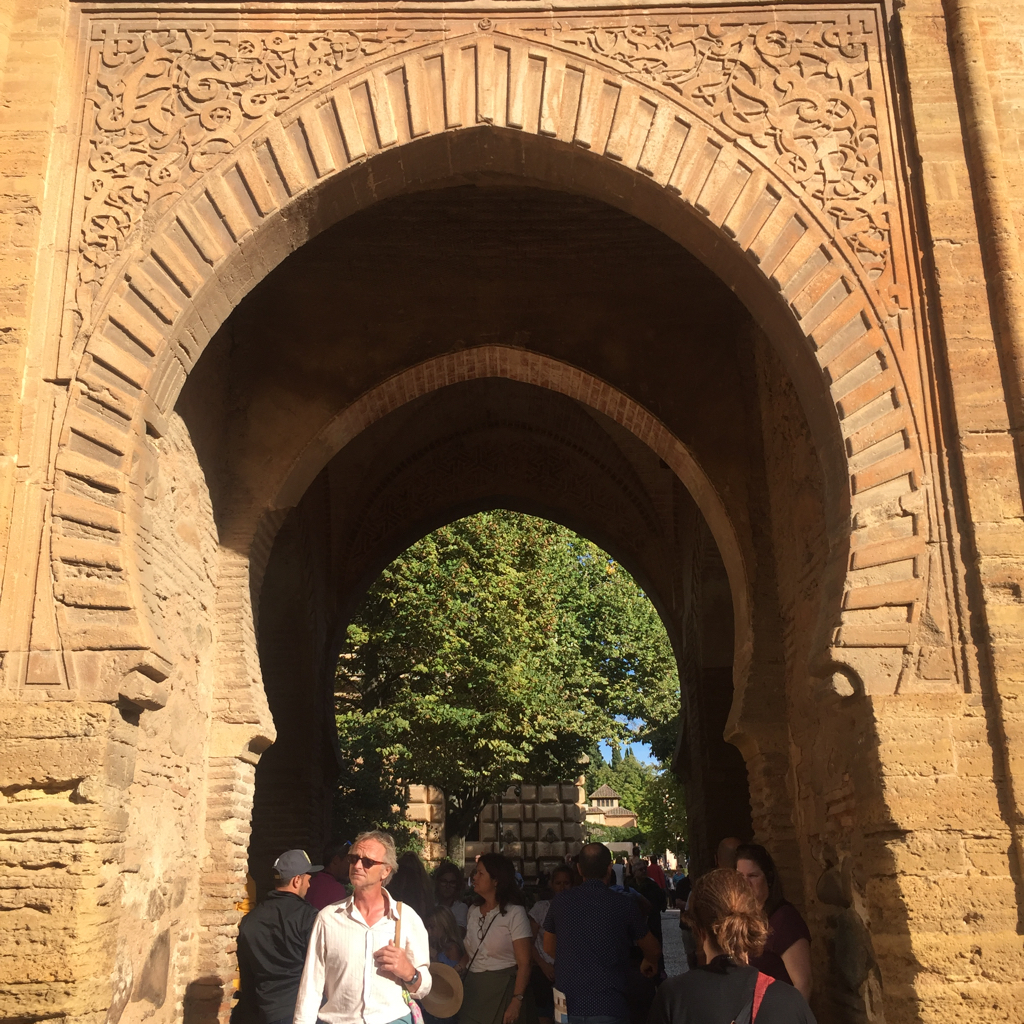arco-herradura: (86, 102, 902, 730)
